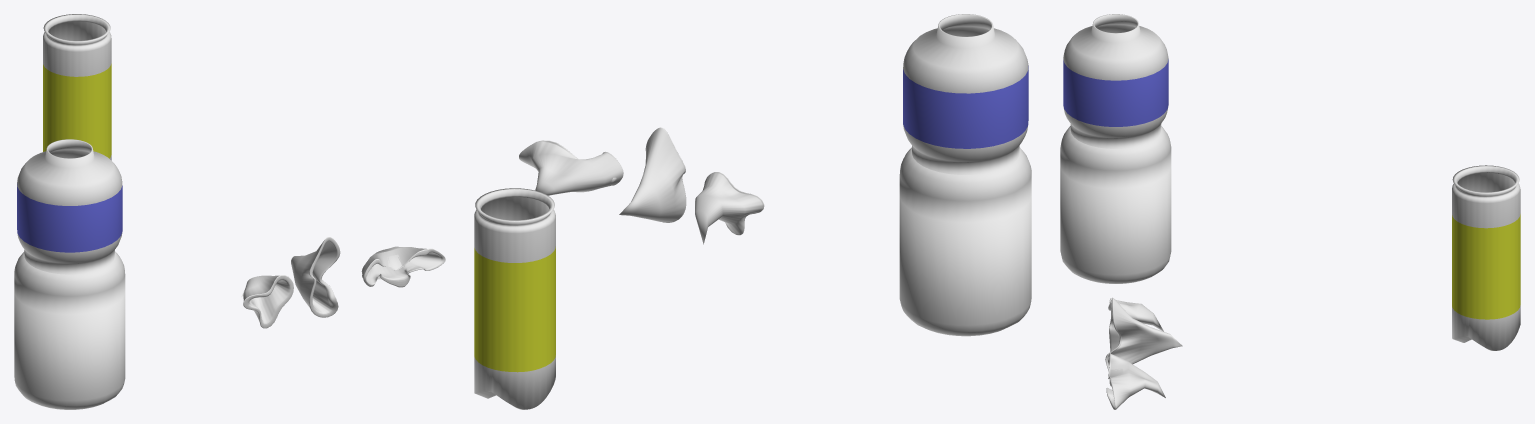
The model's file is Trash.fbx.
The picture shows the model from 3 angles, left to right: view 1: azimuth 30°, elevation 25°; view 2: azimuth 150°, elevation 25°; view 3: azimuth 270°, elevation 25°; orthographic projection. The views are drawn at different scales.
Visible parts, largest first — view 1: bottle, Ball can, water cup 2, water cup 3, water cup; view 2: bottle, Ball can, water cup 2, water cup 3, water cup; view 3: bottle, Ball can, water cup 2, water cup 3, water cup.
Boxes of the visible parts, x1=… form: bottle: x1=14, y1=139, x2=125, y2=409; Ball can: x1=43, y1=14, x2=111, y2=160; water cup 2: x1=291, y1=237, x2=340, y2=317; water cup 3: x1=361, y1=246, x2=445, y2=287; water cup: x1=241, y1=275, x2=293, y2=328; bottle: x1=899, y1=14, x2=1031, y2=336; Ball can: x1=474, y1=188, x2=555, y2=409; water cup 2: x1=619, y1=127, x2=686, y2=222; water cup 3: x1=519, y1=140, x2=623, y2=195; water cup: x1=695, y1=172, x2=764, y2=244; bottle: x1=1060, y1=14, x2=1171, y2=283; Ball can: x1=1452, y1=165, x2=1520, y2=350; water cup 2: x1=1105, y1=297, x2=1182, y2=370; water cup 3: x1=1106, y1=353, x2=1165, y2=409; water cup: x1=1108, y1=298, x2=1163, y2=331.
Size of the model in its own units: 1422 by 779 by 1340.
